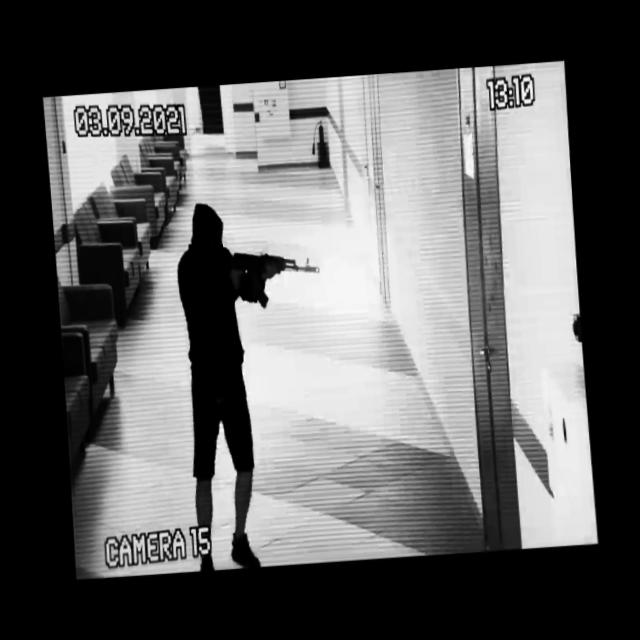gun: (204, 245, 323, 313)
person with a gun: (172, 194, 340, 570)
